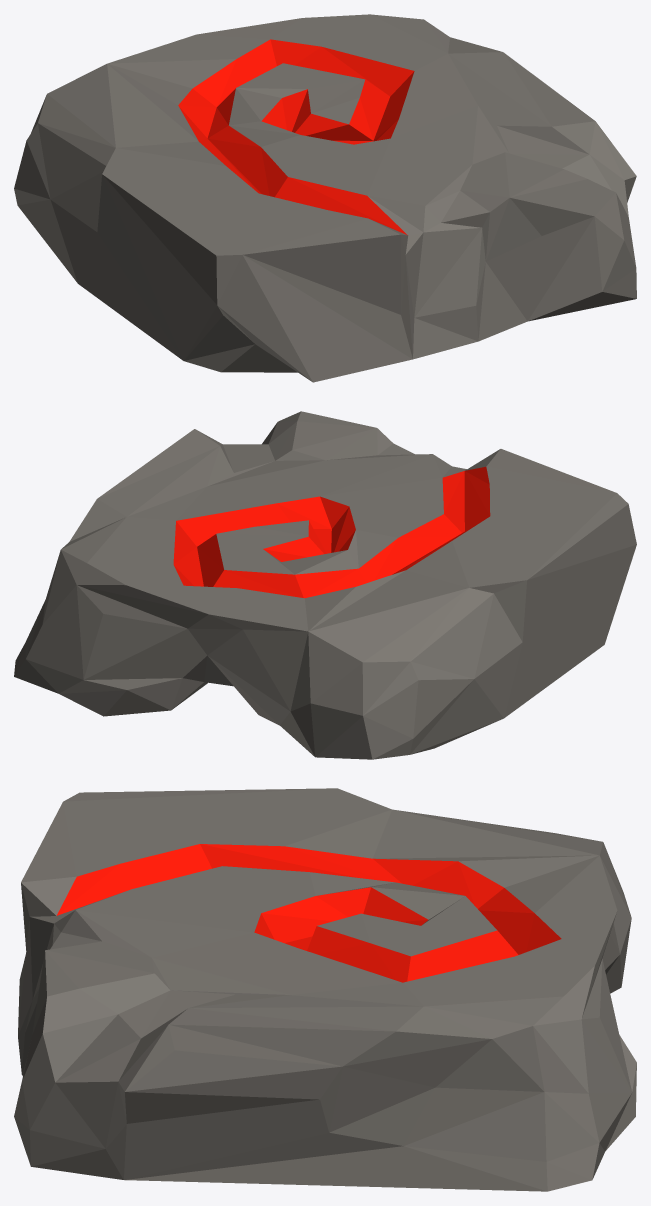
The model's file is SM_Env_Rune_Square_01.fbx.
The picture shows the model from 3 angles, top to bottom: view 1: azimuth 30°, elevation 25°; view 2: azimuth 150°, elevation 25°; view 3: azimuth 270°, elevation 25°; orthographic projection. The views are drawn at different scales.
Visible parts, largest first — view 1: SM_Env_Rune_Square_01; view 2: SM_Env_Rune_Square_01; view 3: SM_Env_Rune_Square_01.
Boxes of the visible parts, x1,y1,x2,y2 form: SM_Env_Rune_Square_01: (14,14,636,382); SM_Env_Rune_Square_01: (14,411,636,759); SM_Env_Rune_Square_01: (14,788,636,1191).
Size of the model in its own units: 1 by 0.2809 by 1.04.
